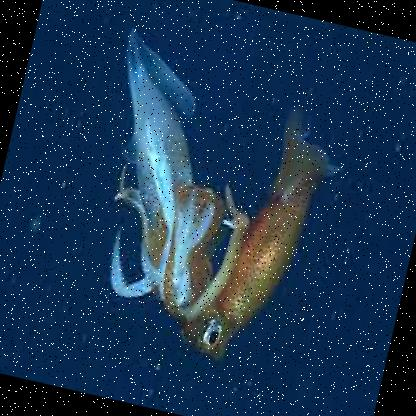colossal_squid: (54, 0, 374, 402)
